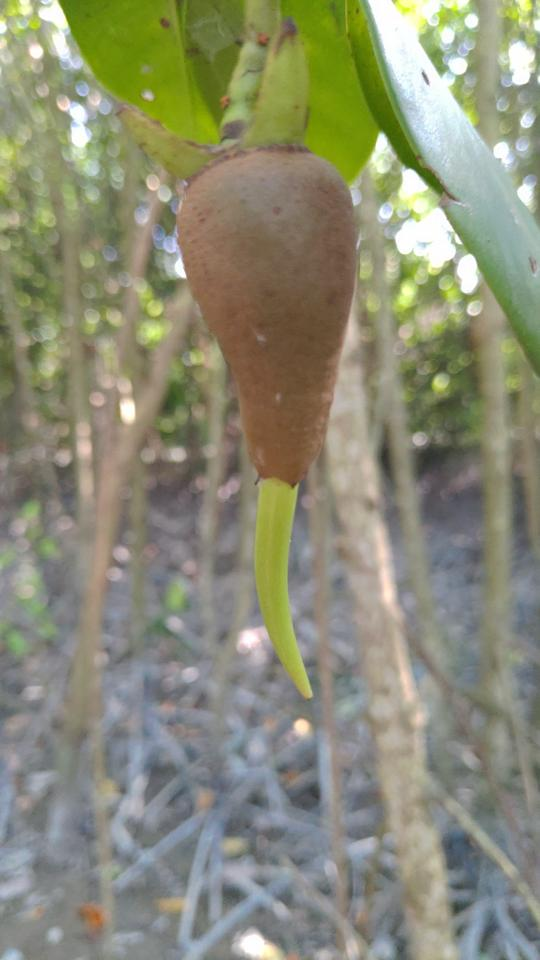mentah: (108, 69, 380, 715)
